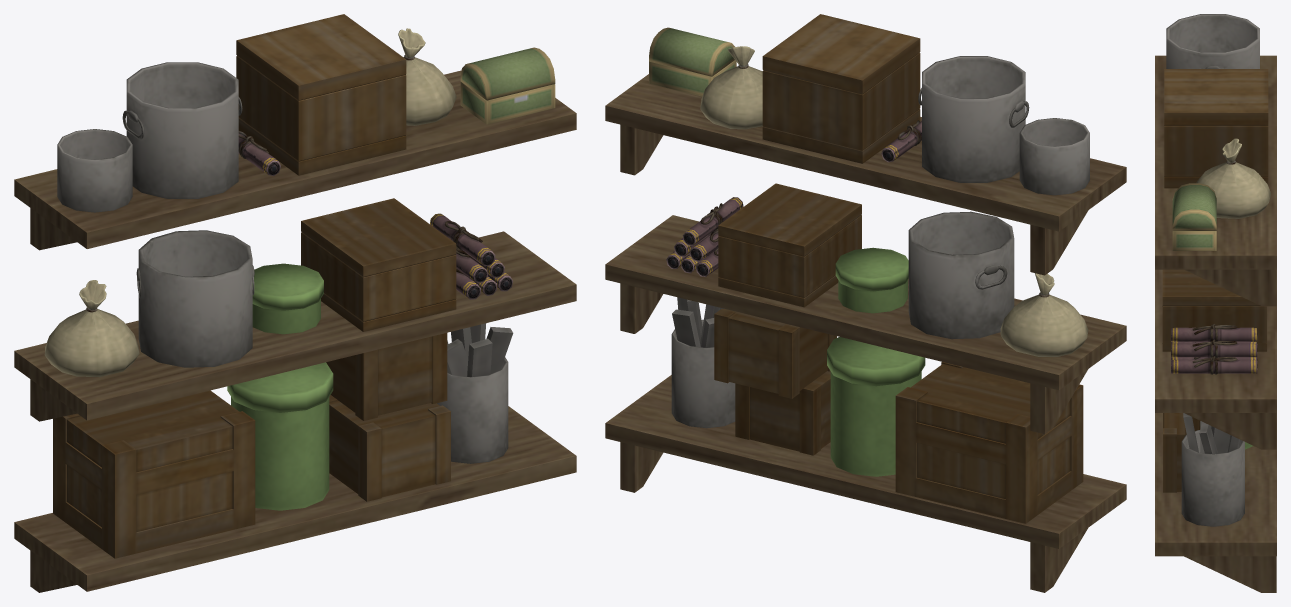
Rendered from sb_obj_indoor021_WallShalf03a.fbx.
3 views of the same model, side by side, from view 1: azimuth 30°, elevation 25°; view 2: azimuth 150°, elevation 25°; view 3: azimuth 270°, elevation 25° (orthographic). The views are drawn at different scales.
Parts seen in each view (by area): view 1: sb_obj_indoor021_WallShalf03a; view 2: sb_obj_indoor021_WallShalf03a; view 3: sb_obj_indoor021_WallShalf03a.
Part boxes in pixels (x1,y1,x2,y2): sb_obj_indoor021_WallShalf03a: [14, 14, 576, 592]; sb_obj_indoor021_WallShalf03a: [605, 14, 1126, 592]; sb_obj_indoor021_WallShalf03a: [1155, 14, 1276, 592].
Bounding box in the file's own units: 1.5 × 1.46 × 0.3851.
